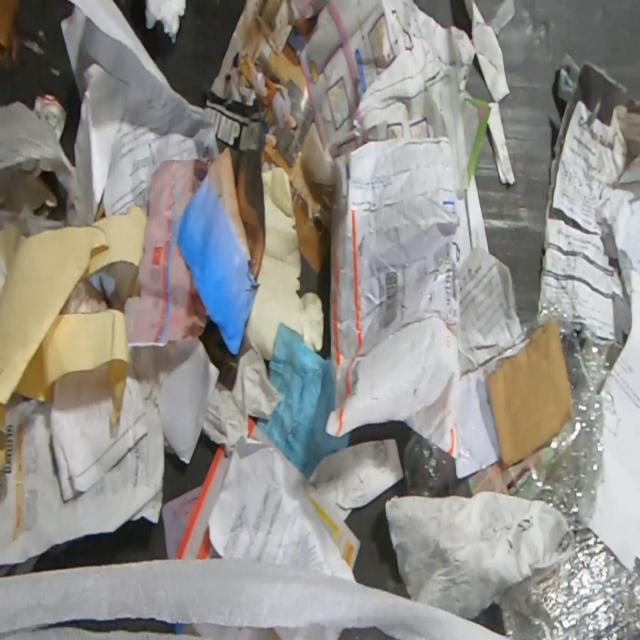cardboard: (486, 313, 576, 468)
soft_plastic: (498, 295, 640, 640), (400, 430, 456, 498)
